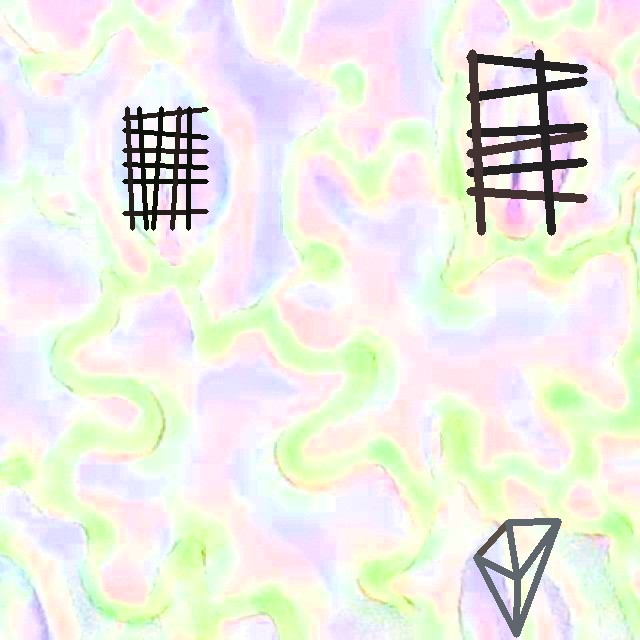open: (466, 49, 587, 235), (122, 106, 207, 229), (474, 520, 560, 636)
